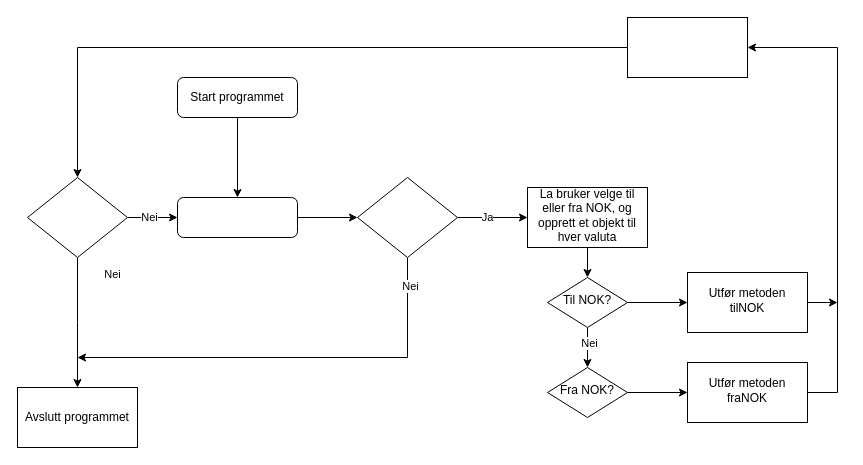
The diagram is 863 pixels wide and 465 high, and some of its shapes have lost their labels. Each missing label, with the centre of its shape:
"Er valg lik YES_OPTION?" belongs at pixel 77 217.
"Er valgtValuta lik 1, 2 eller 3?" belongs at pixel 407 217.
"La bruker velge valuta" belongs at pixel 237 217.
"Print ut svaret" belongs at pixel 687 47.
